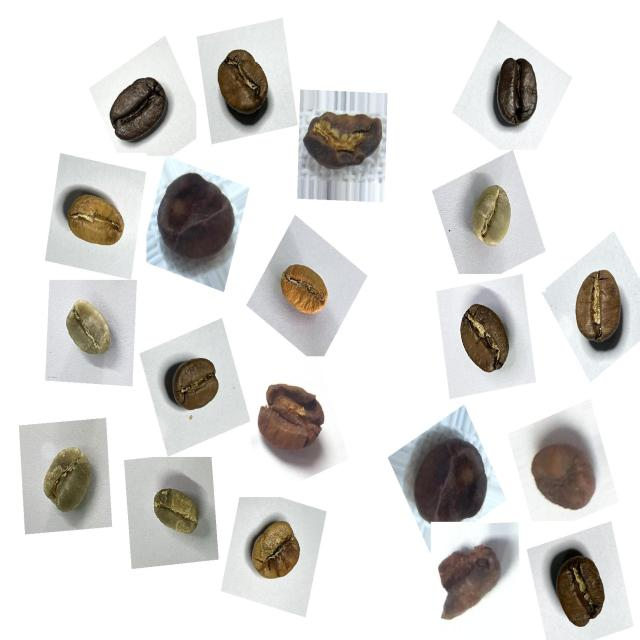bad: (153, 164, 242, 271), (402, 428, 492, 532), (522, 422, 604, 524), (300, 96, 388, 184), (250, 372, 332, 465), (434, 532, 510, 615)
dark: (98, 67, 180, 155), (482, 46, 548, 138)
green: (27, 431, 99, 530), (459, 177, 526, 262), (56, 290, 120, 368), (142, 474, 208, 548)
light: (51, 175, 132, 262), (241, 509, 312, 594), (272, 251, 336, 328)
medium: (562, 258, 637, 359), (542, 545, 620, 640), (448, 298, 523, 387), (207, 42, 280, 126), (162, 346, 229, 424)
